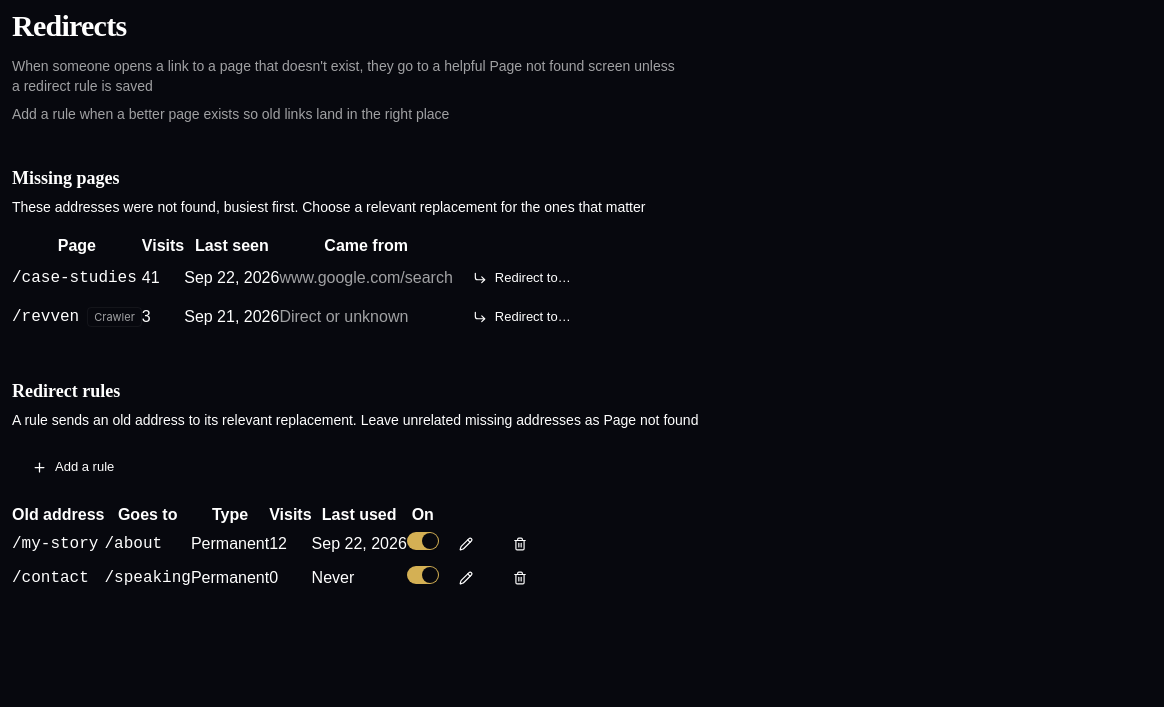
RedirectsManager › keeps the draft if an explicit saved-rules reload fails and freezes controls while it runs
The image size is (1164, 707).
Later steps or results of the test are not shown.
Click the button named "Edit rule for /my-story" at (466, 544), box [439,527,493,561]
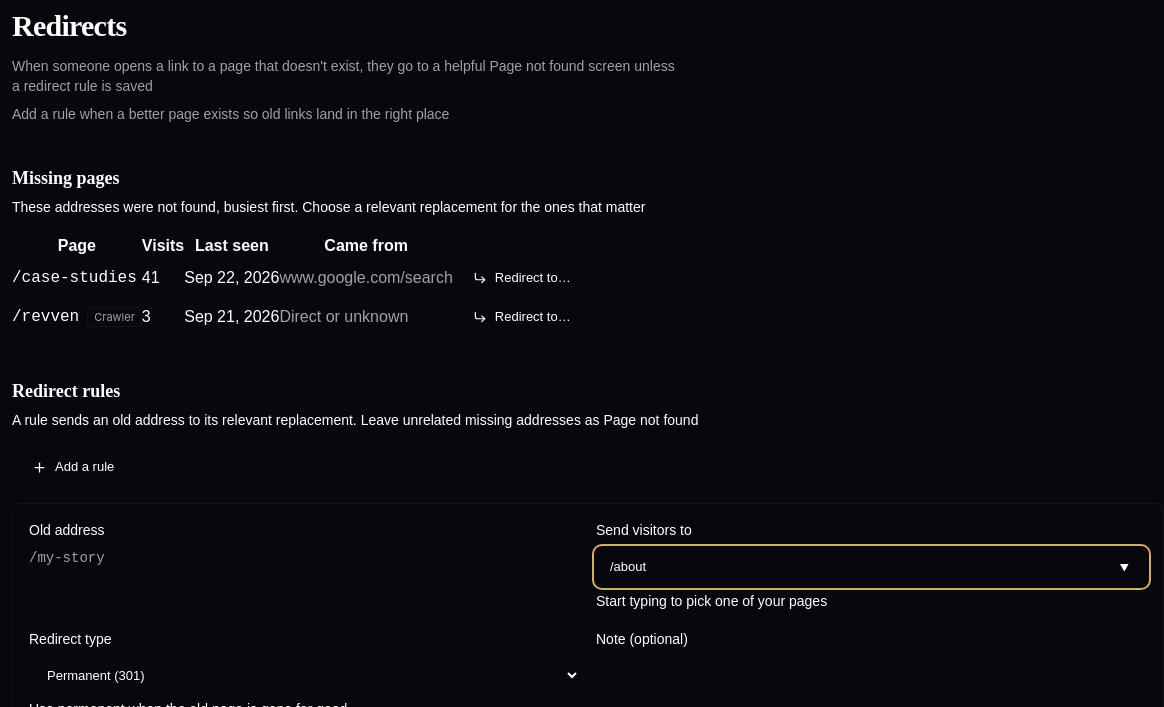
Replace the text in the field labelled "Send visitors to" with "/shop" at (872, 567), box [596,548,1147,586]
(page scrolled)
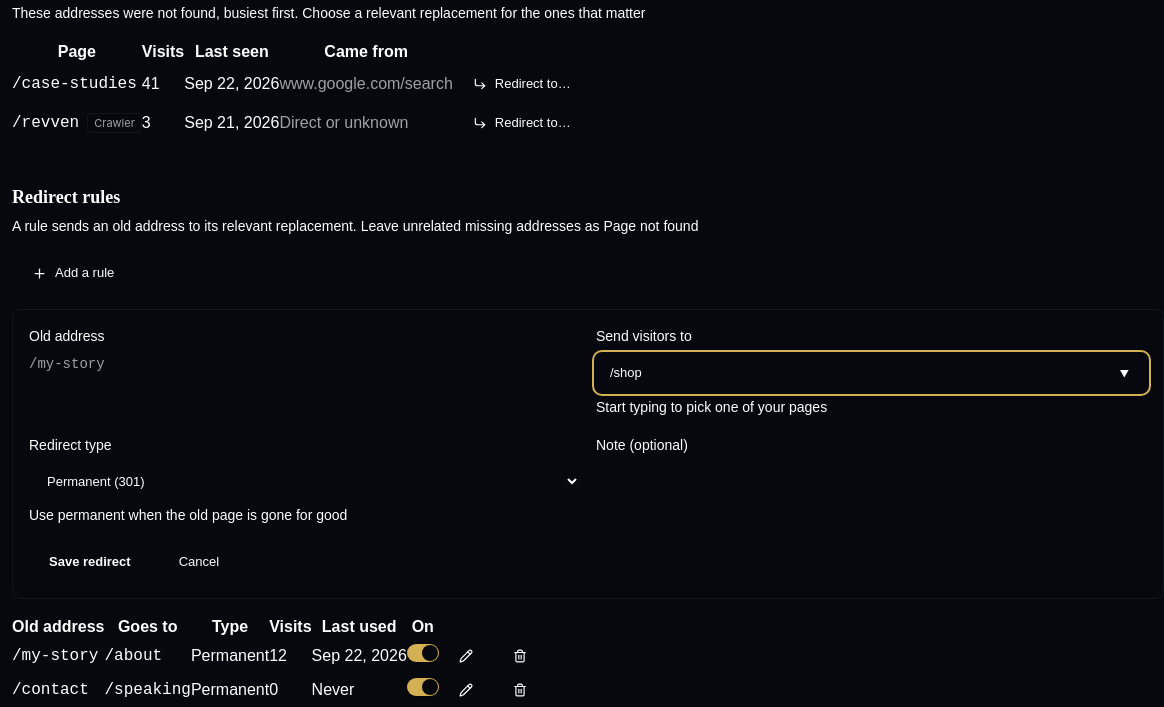
Click the button "Save redirect" at (90, 562), box [29,542,151,582]
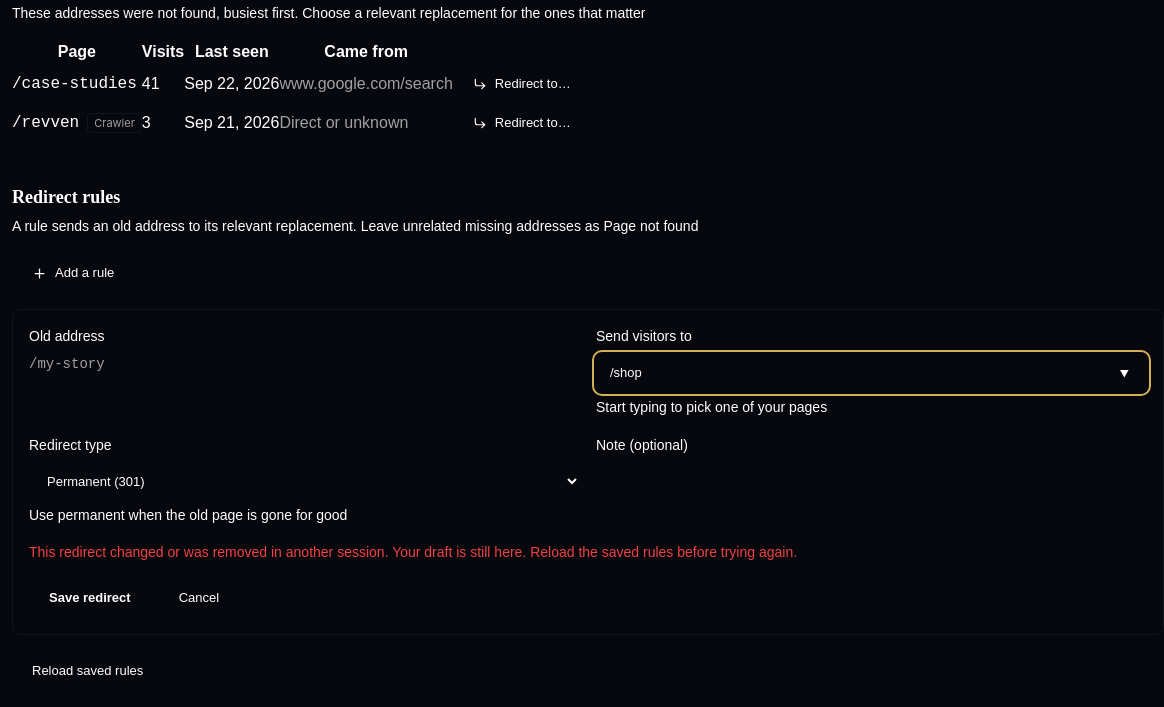
Check: the message is shown, box [29,544,797,560]
Click the button "Reload saved rules" at (88, 670), box [12,651,163,690]
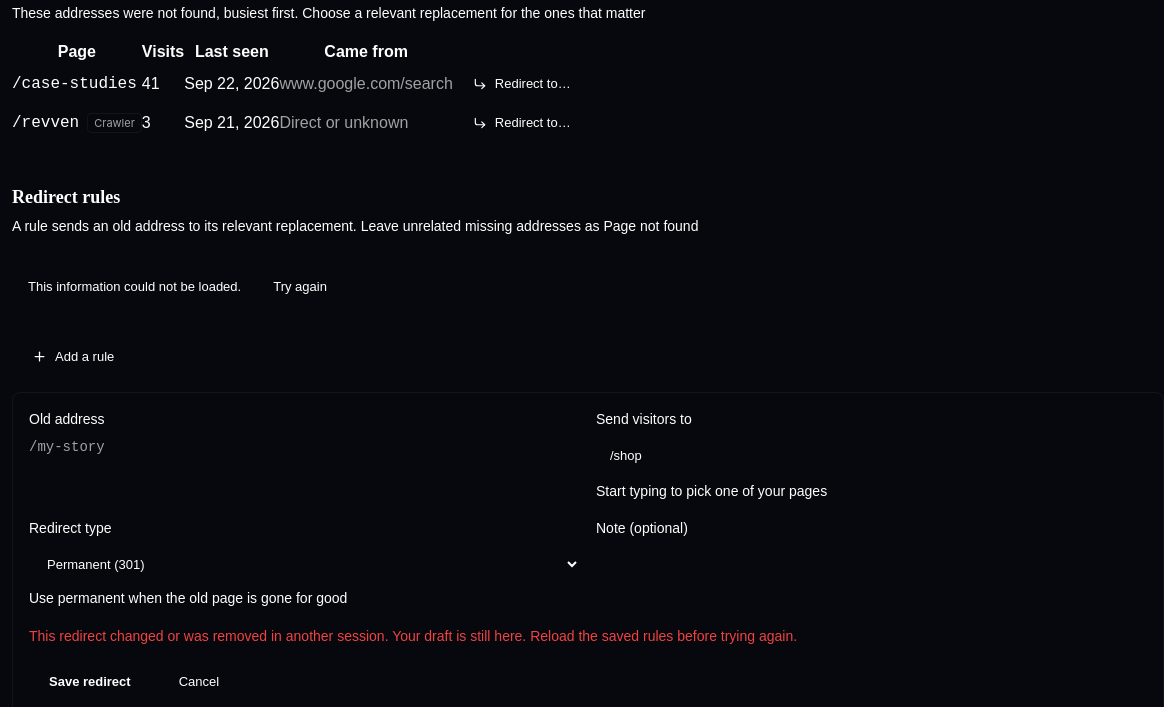
Check: the field labelled "Send visitors to" is enabled, box [596,437,1147,476]
